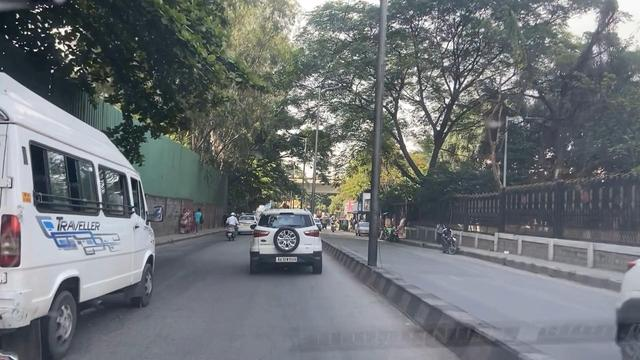HMV: (5, 72, 155, 339)
LMV: (259, 204, 320, 279)
